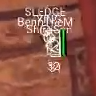hacks_1: (17, 5, 74, 74)
